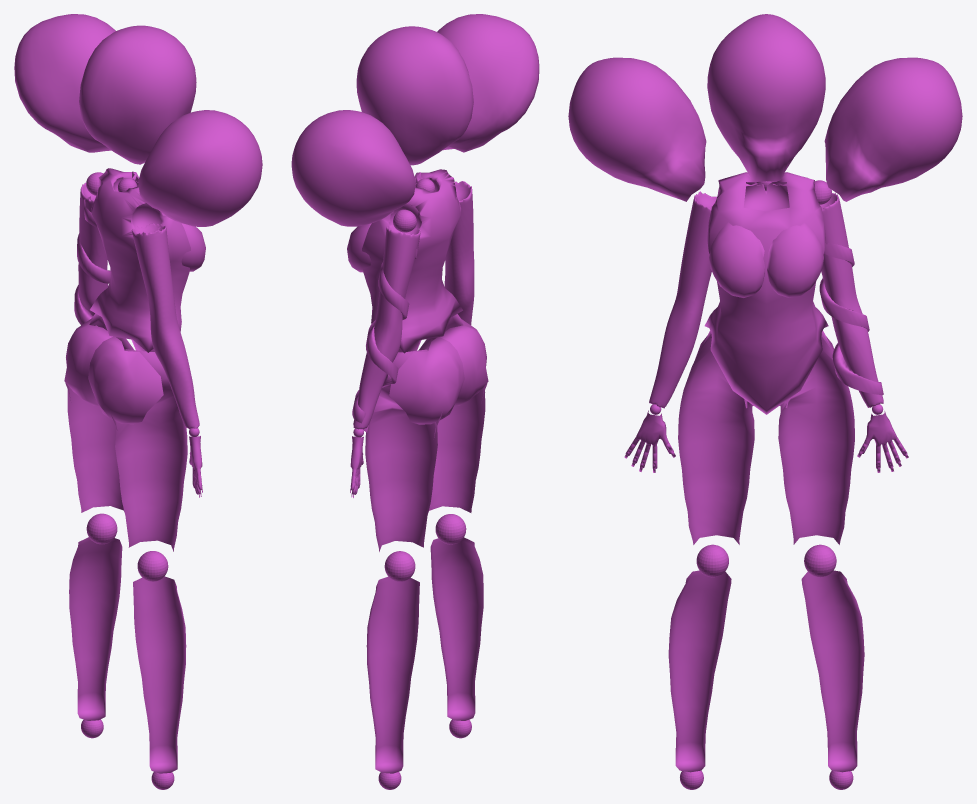
File: Be-tha-nie.glb
The picture shows the model from 3 angles, left to right: view 1: azimuth 30°, elevation 25°; view 2: azimuth 150°, elevation 25°; view 3: azimuth 270°, elevation 25°; orthographic projection. The views are drawn at different scales.
Parts seen in each view (by area): view 1: Plane, Sphere, Sphere003, Cube001, Sphere001, Cylinder001, Sphere006, Spiral001, Sphere007, Cube001_1, Circle; view 2: Plane, Sphere, Sphere001, Cube001, Sphere003, Cylinder001, Spiral001, Sphere006, Sphere007, Circle, Sphere005; view 3: Plane, Cube001, Sphere003, Sphere, Sphere001, Cylinder001, Circle, Spiral001, Sphere006, Sphere007.
Part boxes in pixels (x1,y1,x2,y2): Plane: (64, 313, 187, 773); Sphere: (79, 25, 196, 164); Sphere003: (138, 110, 262, 226); Cube001: (90, 168, 205, 352); Sphere001: (14, 14, 115, 152); Cylinder001: (78, 182, 199, 429); Sphere006: (86, 513, 168, 581); Spiral001: (74, 196, 110, 326); Sphere007: (81, 719, 174, 789); Cube001_1: (131, 203, 164, 233); Circle: (189, 436, 202, 497); Plane: (365, 314, 488, 773); Sphere: (356, 26, 473, 165); Sphere001: (291, 110, 415, 226); Cube001: (347, 169, 462, 353); Sphere003: (437, 14, 539, 152); Cylinder001: (353, 181, 474, 429); Spiral001: (352, 239, 419, 432); Sphere006: (384, 514, 466, 581); Sphere007: (378, 719, 471, 789); Circle: (350, 392, 485, 497); Sphere005: (393, 209, 416, 232); Plane: (668, 330, 864, 772); Cube001: (704, 172, 828, 414); Sphere003: (568, 57, 706, 201); Sphere: (707, 14, 825, 181); Sphere001: (824, 57, 962, 201); Cylinder001: (649, 191, 883, 408); Circle: (624, 410, 908, 472); Spiral001: (819, 243, 883, 395); Sphere006: (696, 544, 836, 577); Sphere007: (680, 770, 853, 789).
Size of the model in its own units: 0.6737 by 4.29 by 1.99.
